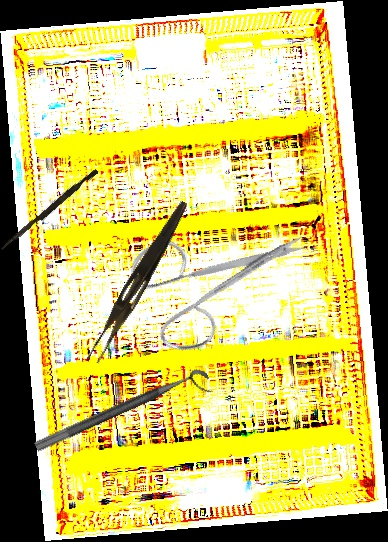Dressing Forceps: (86, 195, 191, 368)
Fixation Ring: (33, 365, 215, 467)
Iris Scissors: (104, 167, 315, 384)
Pusher: (0, 166, 99, 254)
